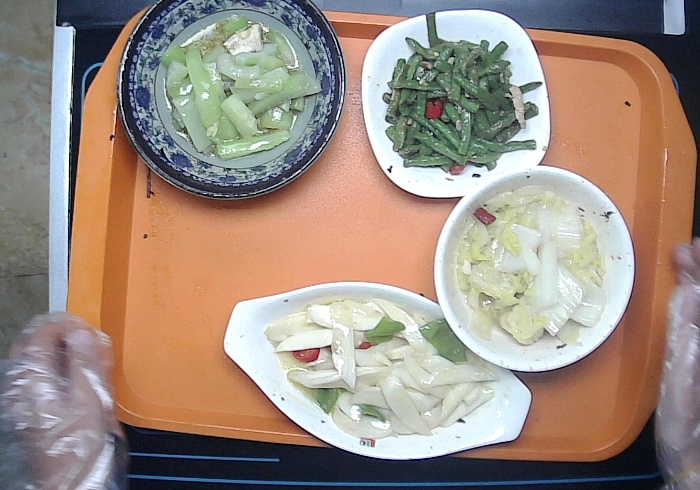ZNLD-Qing_Hua_Wan: (113, 1, 350, 202)
ZNLD-Si_Fang_Wan: (361, 9, 551, 200)
ZNLD-Tang_Wan: (431, 163, 635, 372)
ZNLD-Yu_Pan: (222, 278, 534, 461)
